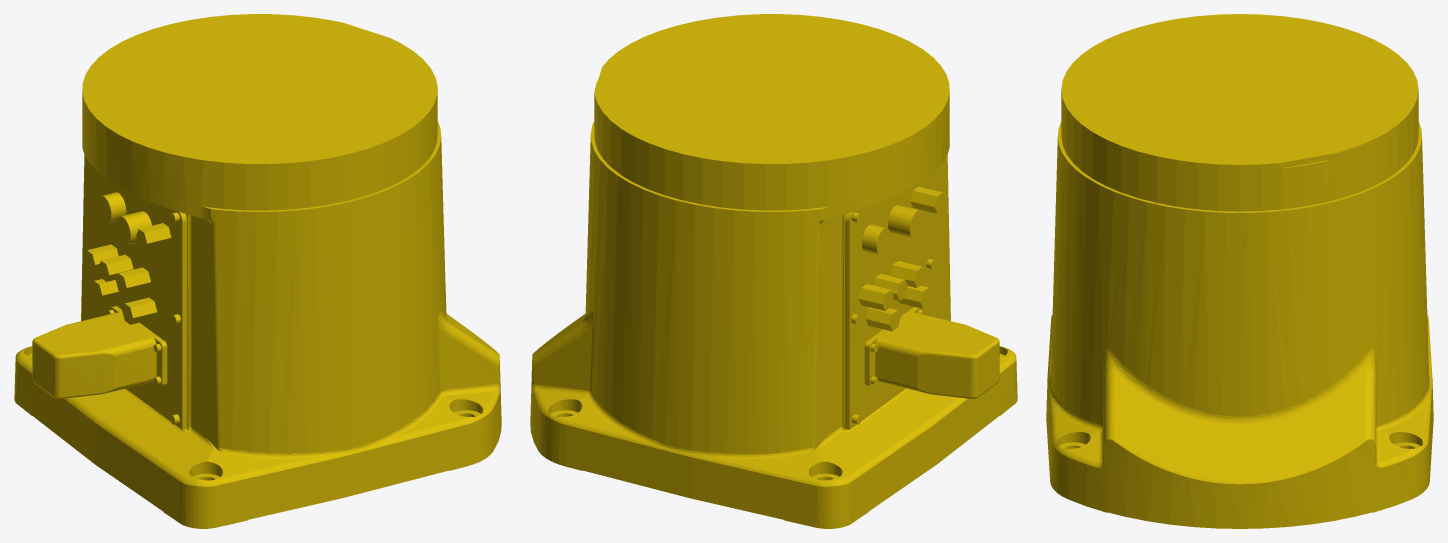
The picture shows the model from 3 angles, left to right: view 1: azimuth 30°, elevation 25°; view 2: azimuth 150°, elevation 25°; view 3: azimuth 270°, elevation 25°; orthographic projection.
Parts seen in each view (by area): view 1: base_link; view 2: base_link; view 3: base_link.
Boxes of the visible parts, box(x1,y1,x2,y2) form: base_link: box(14, 14, 501, 528); base_link: box(530, 14, 1017, 528); base_link: box(1046, 14, 1433, 528).
Bounding box in the file's own units: 0.4374 × 0.3427 × 0.3292.
